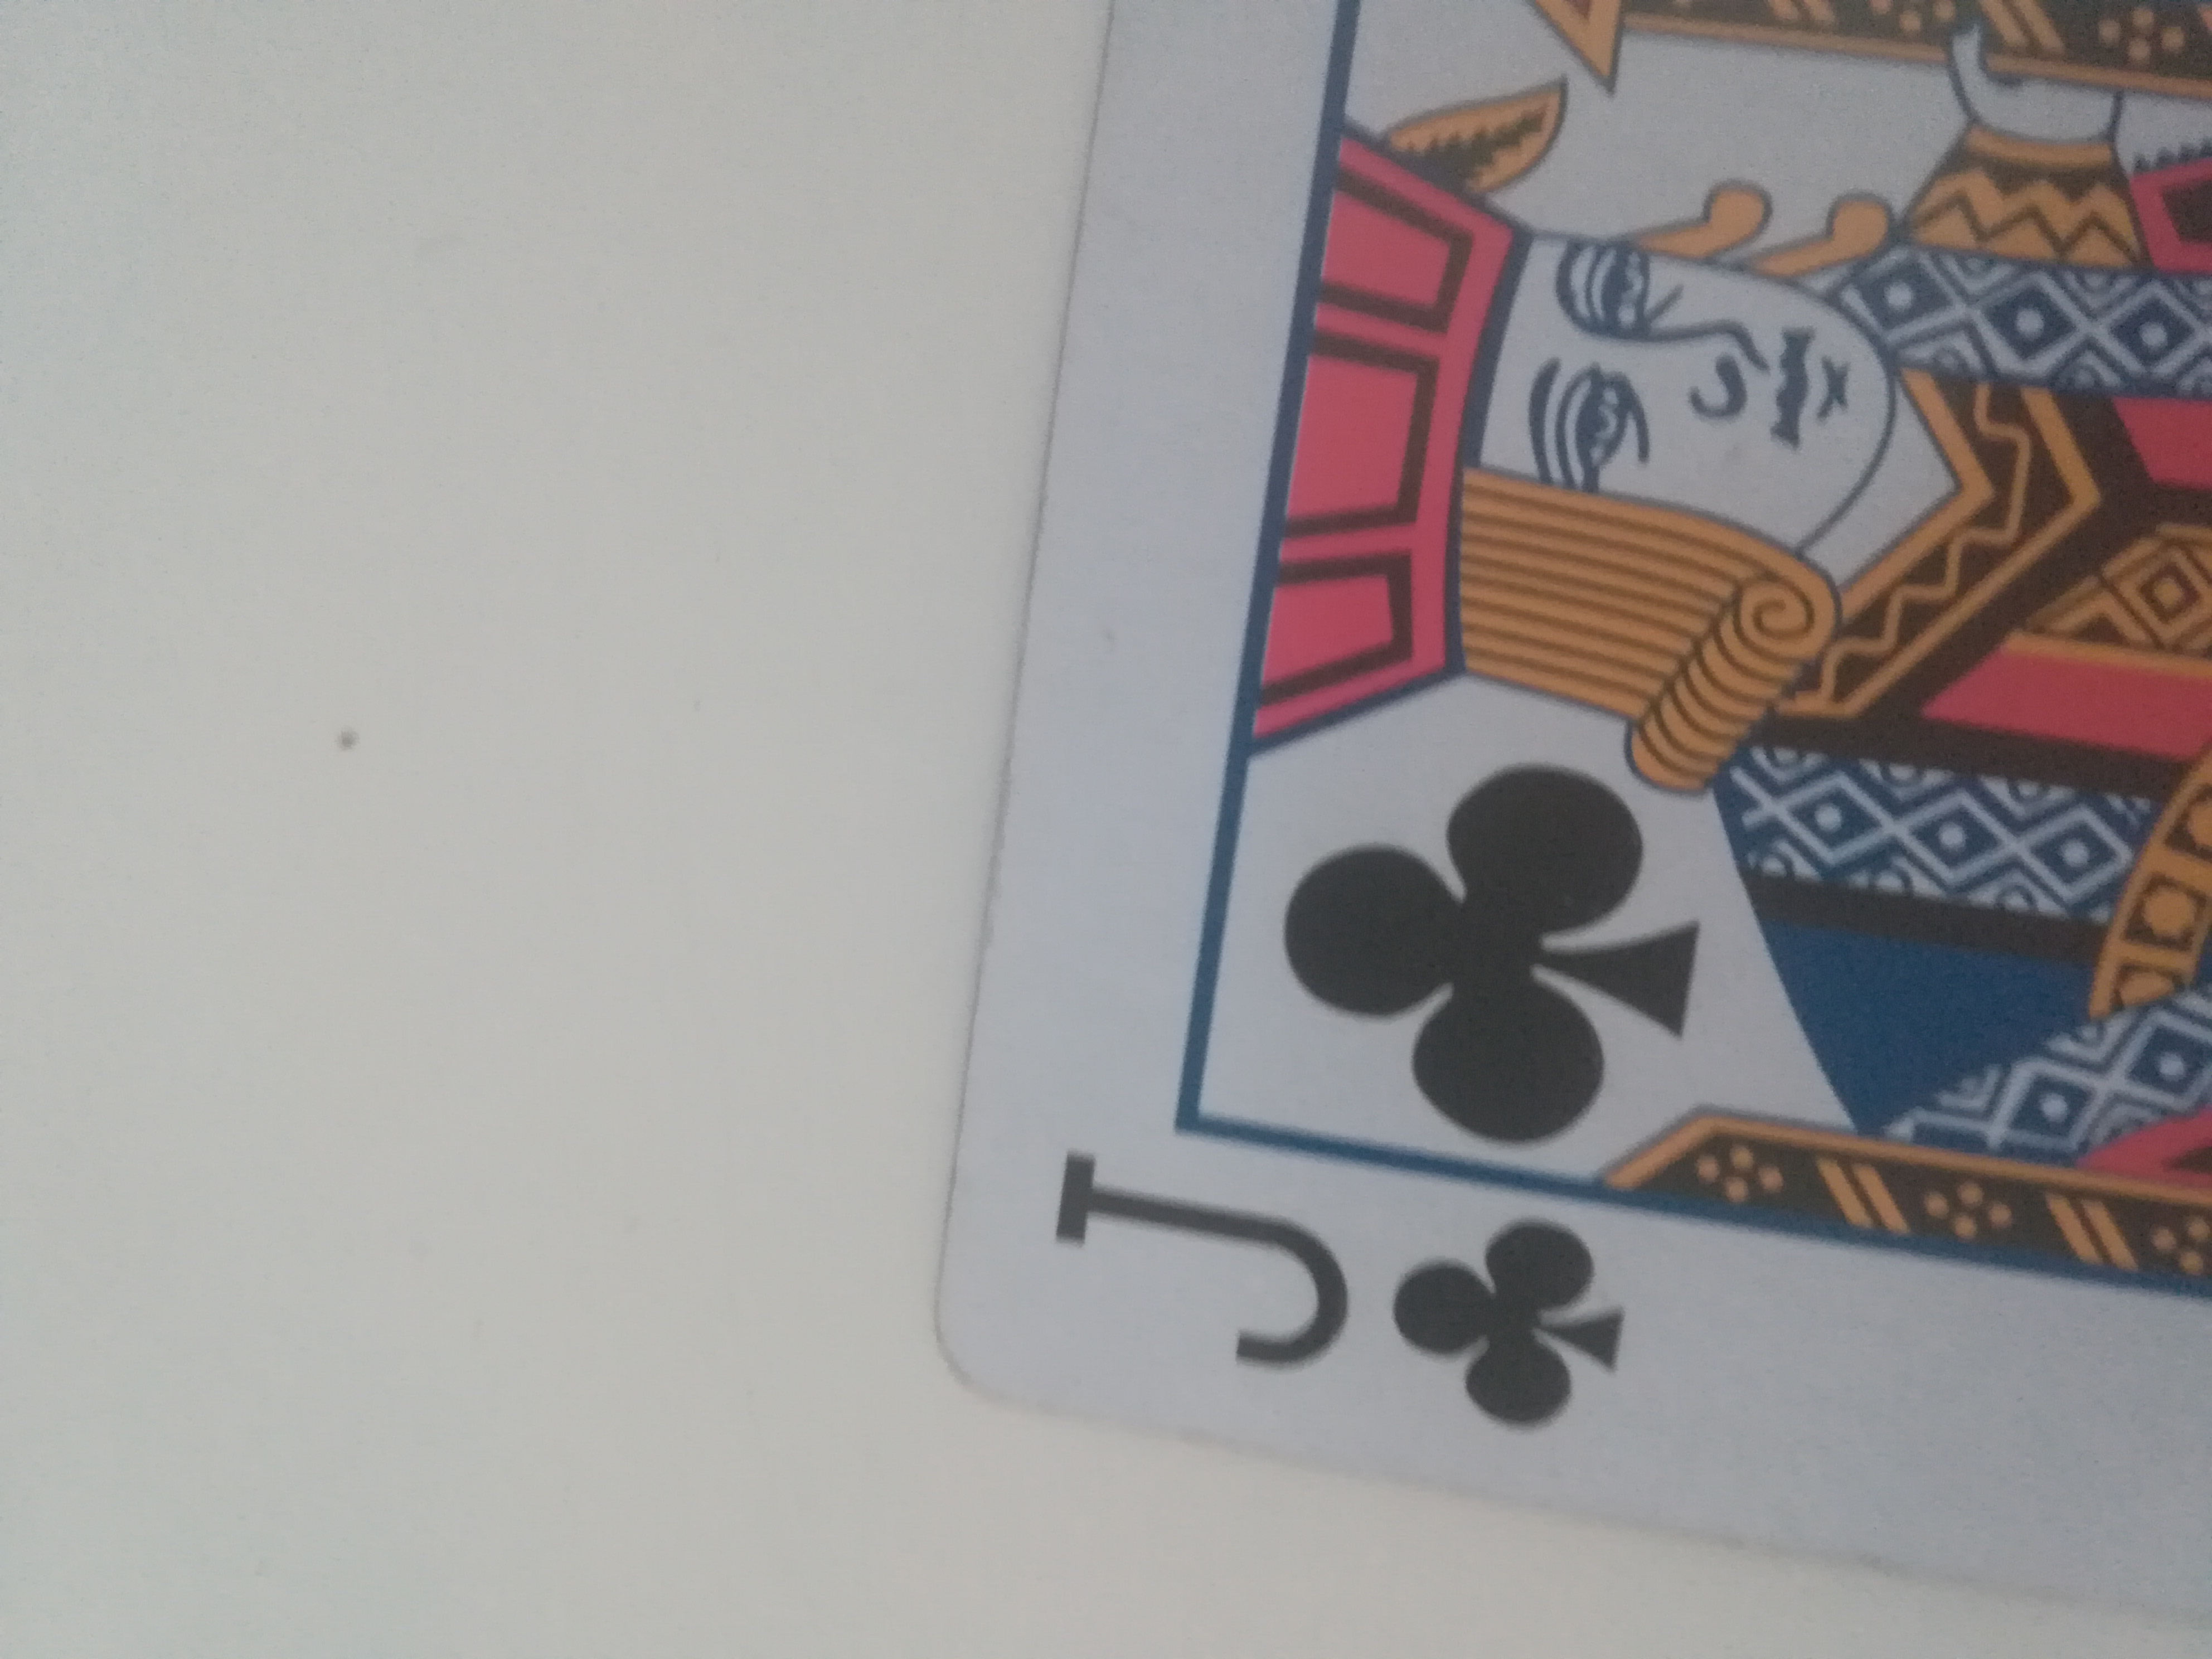JC: (951, 0, 2205, 1638)
